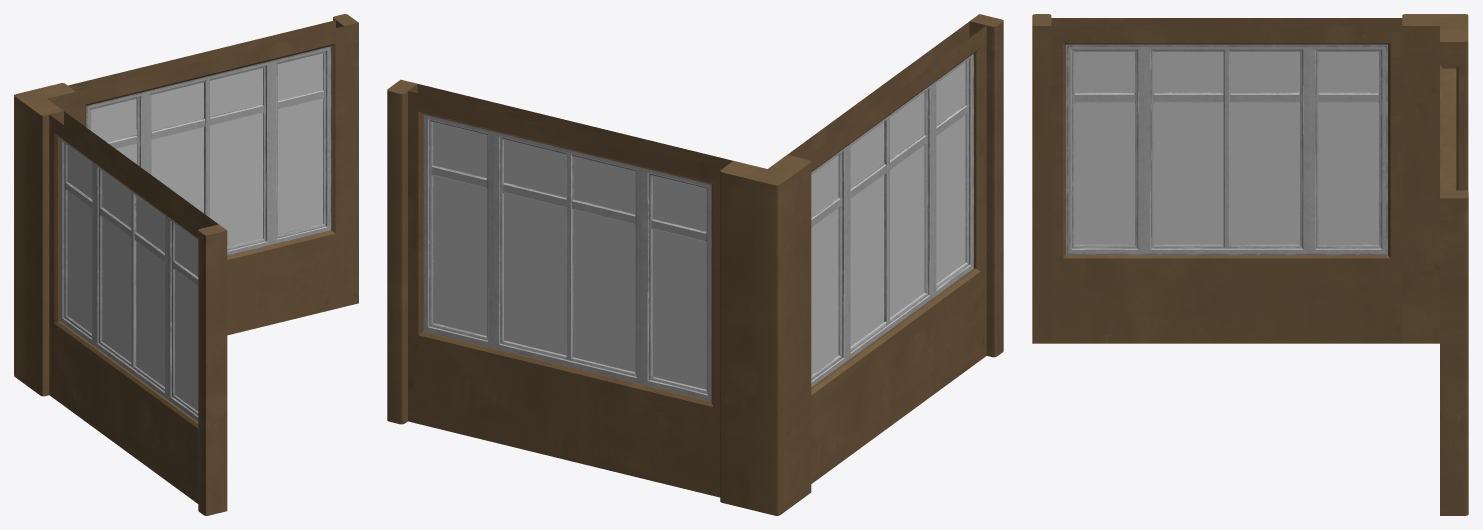
The model's file is SM_Building04_GroundCornerR.fbx.
3 renders of one model, left to right at view 1: azimuth 30°, elevation 25°; view 2: azimuth 150°, elevation 25°; view 3: azimuth 270°, elevation 25°, orthographic. The views are drawn at different scales.
Visible parts, largest first — view 1: SM_Building04_GroundCornerR_LOD0; view 2: SM_Building04_GroundCornerR_LOD0; view 3: SM_Building04_GroundCornerR_LOD0.
Part boxes in pixels (left/top/right/bottom): SM_Building04_GroundCornerR_LOD0: left=14, top=14, right=358, bottom=515; SM_Building04_GroundCornerR_LOD0: left=387, top=14, right=1003, bottom=515; SM_Building04_GroundCornerR_LOD0: left=1032, top=14, right=1468, bottom=515.
Size of the model in its own units: 460 by 460 by 370.
Materials: 4 (3 with a texture image).
